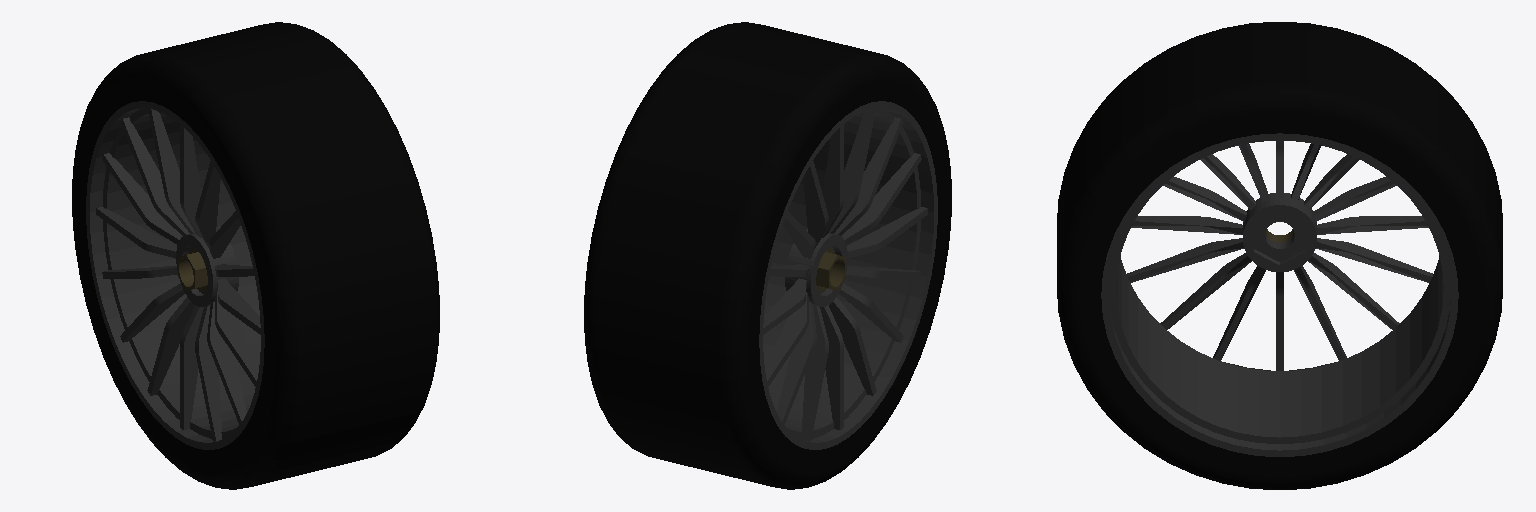
Rendered from car_wheel.obj.
3 views of the same model, side by side, from view 1: azimuth 30°, elevation 25°; view 2: azimuth 150°, elevation 25°; view 3: azimuth 270°, elevation 25° (orthographic).
Parts seen in each view (by area): view 1: Mesh1 vorderer_Pneu1 Vorderrad_2_1 Model, Mesh2 vordere_Felge1 Vorderrad_2_1 Model, Mesh19 Zentralverschluss1 Vorderrad_2_1 Model; view 2: Mesh1 vorderer_Pneu1 Vorderrad_2_1 Model, Mesh2 vordere_Felge1 Vorderrad_2_1 Model, Mesh19 Zentralverschluss1 Vorderrad_2_1 Model; view 3: Mesh1 vorderer_Pneu1 Vorderrad_2_1 Model, Mesh2 vordere_Felge1 Vorderrad_2_1 Model.
Part boxes in pixels (x1,y1,x2,y2): Mesh1 vorderer_Pneu1 Vorderrad_2_1 Model: (72, 22, 439, 489); Mesh2 vordere_Felge1 Vorderrad_2_1 Model: (86, 101, 264, 449); Mesh19 Zentralverschluss1 Vorderrad_2_1 Model: (178, 248, 207, 291); Mesh1 vorderer_Pneu1 Vorderrad_2_1 Model: (584, 22, 951, 489); Mesh2 vordere_Felge1 Vorderrad_2_1 Model: (759, 101, 937, 449); Mesh19 Zentralverschluss1 Vorderrad_2_1 Model: (816, 248, 845, 291); Mesh1 vorderer_Pneu1 Vorderrad_2_1 Model: (1057, 22, 1502, 489); Mesh2 vordere_Felge1 Vorderrad_2_1 Model: (1101, 133, 1458, 456).
Bounding box in the file's own units: 0.2925 × 0.702 × 0.702.